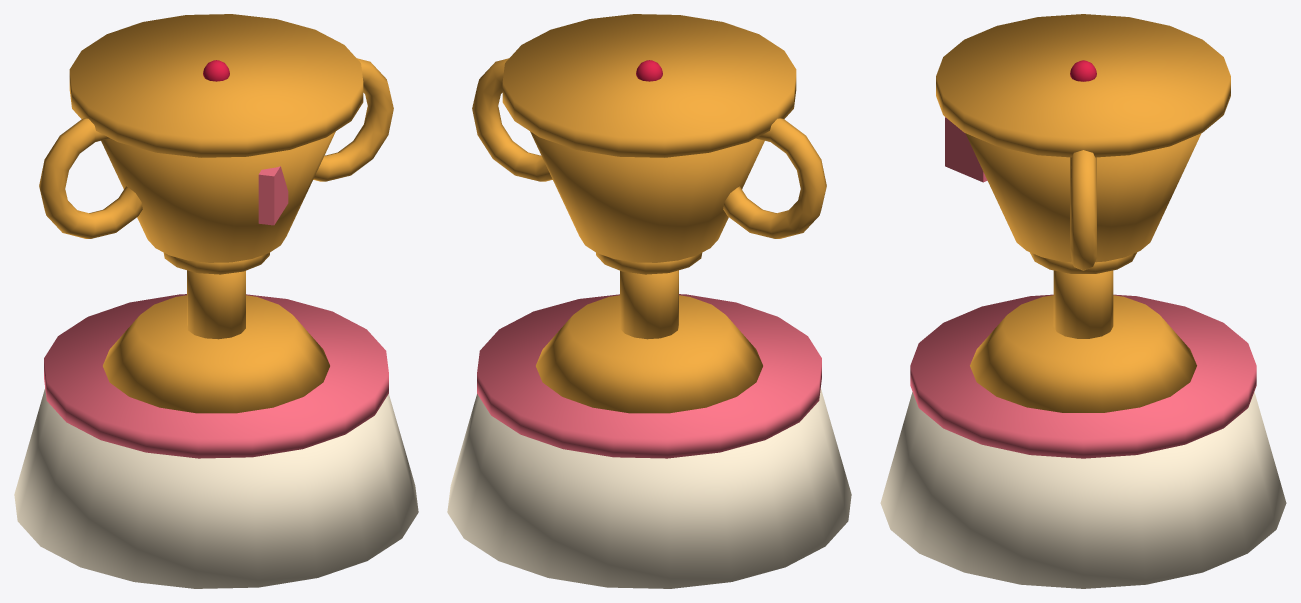
File: hero-race-victory-lane.glb
3 renders of one model, left to right at view 1: azimuth 30°, elevation 25°; view 2: azimuth 150°, elevation 25°; view 3: azimuth 270°, elevation 25°, orthographic.
Parts seen in each view (by area): view 1: hero-race-victory-lane; view 2: hero-race-victory-lane; view 3: hero-race-victory-lane.
Boxes of the visible parts, bbox=[...] form: hero-race-victory-lane: bbox=[14, 14, 418, 588]; hero-race-victory-lane: bbox=[447, 14, 851, 588]; hero-race-victory-lane: bbox=[880, 14, 1286, 588].
Size of the model in its own units: 1.5 by 1.8 by 1.5.
1 material, 1 textured.
